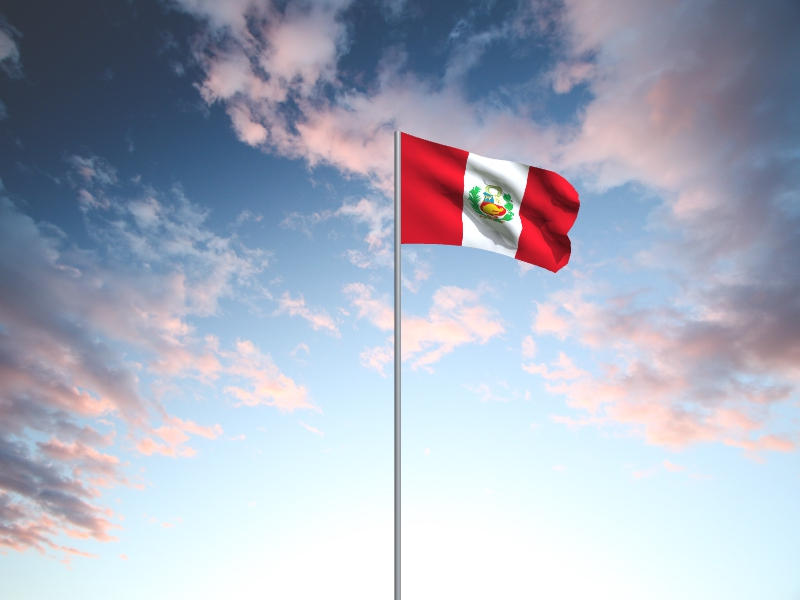pe: (402, 133, 582, 274)
